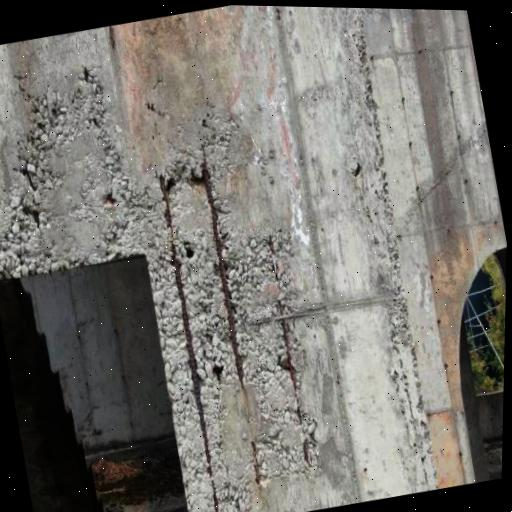exposed_rebar: (160, 174, 220, 512), (201, 160, 246, 401), (278, 300, 302, 426), (250, 438, 260, 486), (269, 237, 278, 282), (212, 364, 223, 381), (303, 442, 309, 465), (109, 26, 115, 49), (416, 186, 420, 197), (277, 6, 280, 20), (364, 467, 367, 475), (337, 375, 339, 385), (409, 142, 412, 148), (458, 135, 461, 140), (419, 49, 422, 54), (438, 319, 441, 324), (402, 97, 404, 103), (460, 452, 463, 456), (465, 179, 468, 183), (447, 229, 451, 232), (445, 363, 448, 367), (451, 90, 453, 95), (315, 54, 317, 59), (399, 234, 402, 237), (495, 220, 498, 223), (371, 55, 373, 59), (431, 276, 433, 279)
